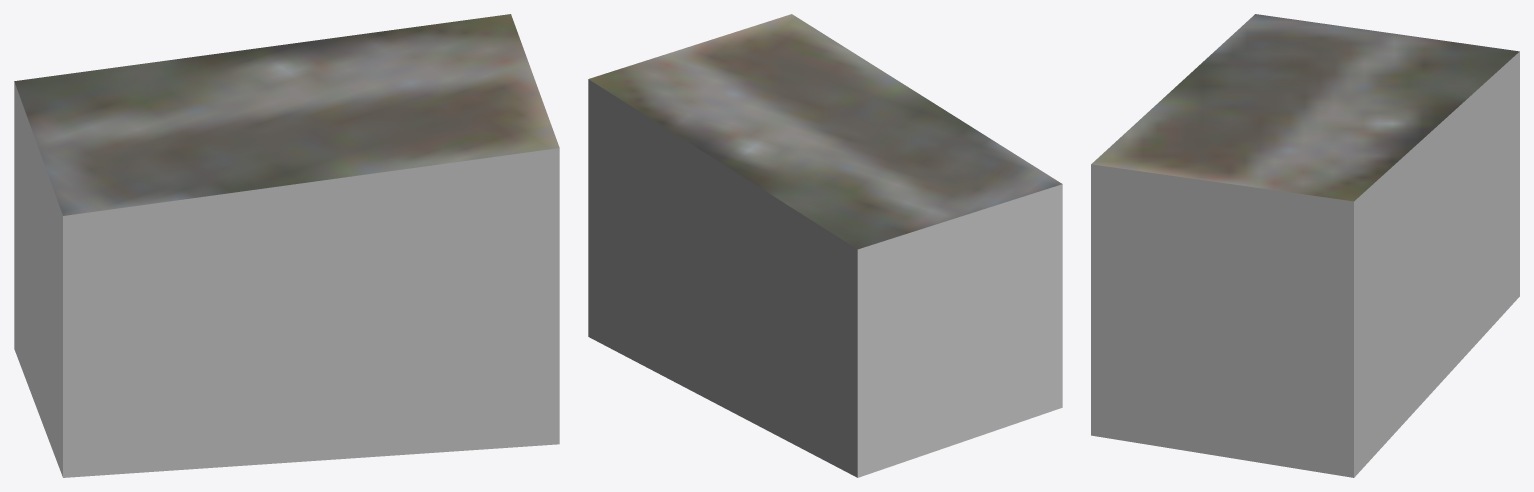
File: DEBW_0010007TxcM.gltf
The picture shows the model from 3 angles, left to right: view 1: azimuth 30°, elevation 25°; view 2: azimuth 150°, elevation 25°; view 3: azimuth 270°, elevation 25°; orthographic projection. The views are drawn at different scales.
Visible parts, largest first — view 1: Z_UP; view 2: Z_UP; view 3: Z_UP.
Part boxes in pixels (bbox=[...]): Z_UP: bbox=[14, 14, 559, 477]; Z_UP: bbox=[588, 14, 1062, 477]; Z_UP: bbox=[1091, 14, 1519, 477].
Size of the model in its own units: 6.98 by 4.01 by 5.64.
Materials: 2 (1 with a texture image).
